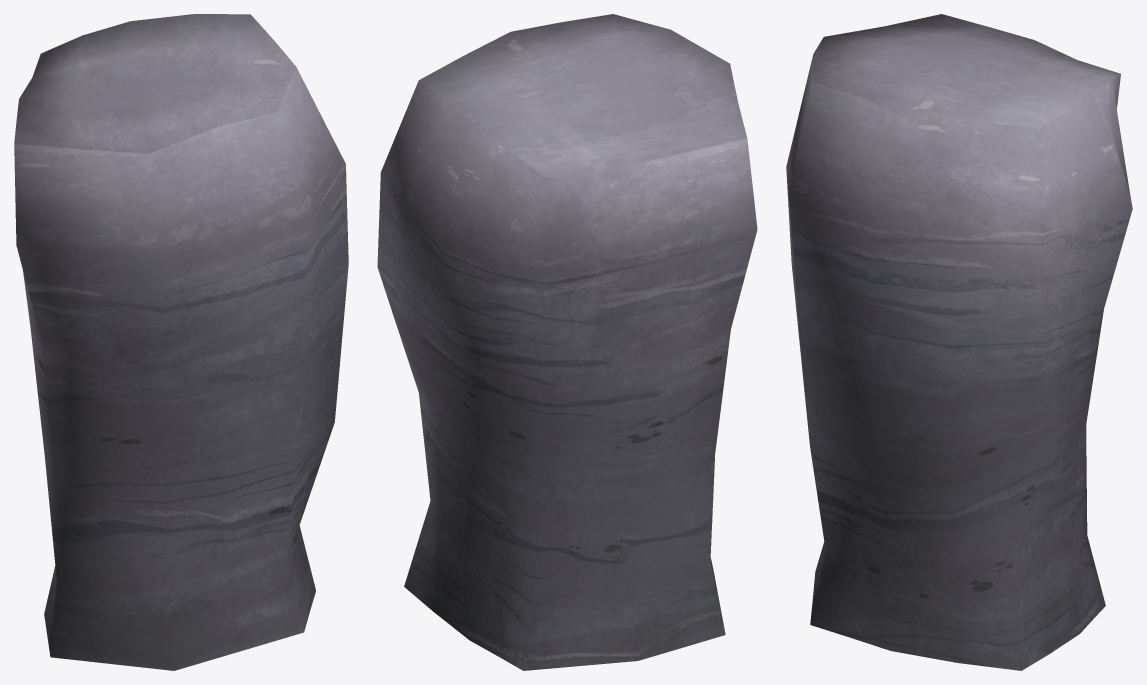
File: tower_2_001.fbx
3 views of the same model, side by side, from view 1: azimuth 30°, elevation 25°; view 2: azimuth 150°, elevation 25°; view 3: azimuth 270°, elevation 25° (orthographic). The views are drawn at different scales.
Visible parts, largest first — view 1: tower 2.001; view 2: tower 2.001; view 3: tower 2.001.
Boxes of the visible parts, bbox=[...] form: tower 2.001: bbox=[14, 14, 348, 670]; tower 2.001: bbox=[377, 14, 757, 670]; tower 2.001: bbox=[786, 14, 1132, 670].
Size of the model in its own units: 2337 by 3692 by 2076.
